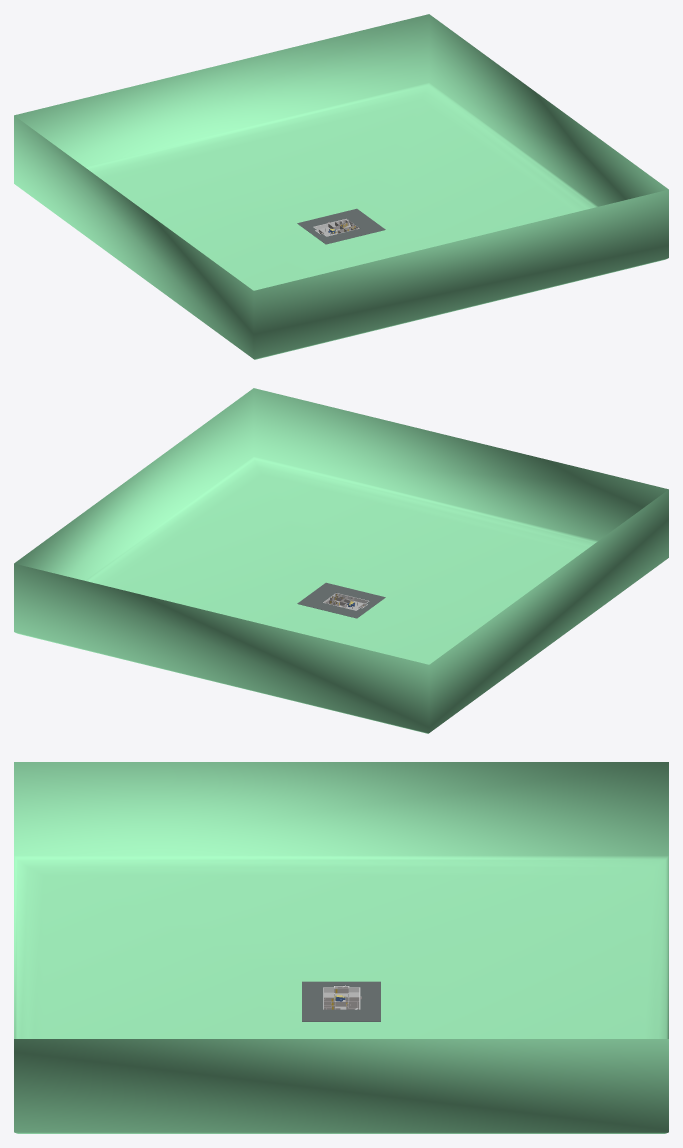
File: RiihimakiEverything.glb
3 renders of one model, top to bottom at view 1: azimuth 30°, elevation 25°; view 2: azimuth 150°, elevation 25°; view 3: azimuth 270°, elevation 25°, orthographic. The views are drawn at different scales.
Parts seen in each view (by area): view 1: BG, FFL; view 2: BG, FFL; view 3: BG, FFL.
Boxes of the visible parts, x1=… form: BG: x1=14, y1=14, x2=668, y2=359; FFL: x1=297, y1=208, x2=385, y2=244; BG: x1=14, y1=388, x2=668, y2=733; FFL: x1=297, y1=582, x2=385, y2=618; BG: x1=14, y1=762, x2=668, y2=1133; FFL: x1=302, y1=981, x2=380, y2=1021.
Size of the model in its own units: 303 by 54.46 by 303.
